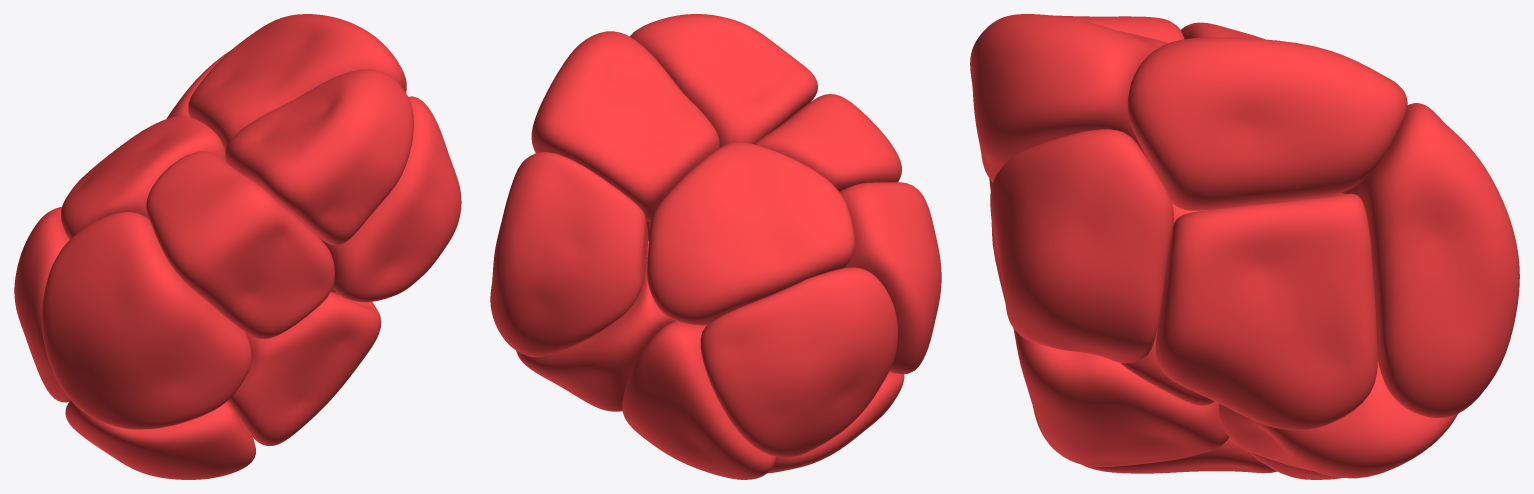
3 views of the same model, side by side, from view 1: azimuth 30°, elevation 25°; view 2: azimuth 150°, elevation 25°; view 3: azimuth 270°, elevation 25° (orthographic). The views are drawn at different scales.
Parts seen in each view (by area): view 1: a4.003, a4.004, a4.013, a4.007, a4.014, a4.011, a4.008, a4.001, a4.006, a4.002; view 2: a4.001, a4.006, a4.002, a4.007, a4.013, a4.010, a4.003, a4.004, a4.005, a4.008; view 3: a4.009, a4.007, a4.002, a4.014, a4.013, a4.011, a4.005, a4.008, a4.004, a4.012, a4.001, a4.010.
Boxes of the visible parts, <box> form: a4.003: <box>42,212,251,429</box>; a4.004: <box>146,151,334,339</box>; a4.013: <box>225,69,413,245</box>; a4.007: <box>188,14,406,150</box>; a4.014: <box>320,96,461,302</box>; a4.011: <box>228,292,381,445</box>; a4.008: <box>65,400,255,479</box>; a4.001: <box>61,116,226,239</box>; a4.006: <box>14,207,70,402</box>; a4.002: <box>166,50,230,118</box>; a4.001: <box>647,142,854,325</box>; a4.006: <box>700,267,897,457</box>; a4.002: <box>490,152,648,357</box>; a4.007: <box>531,31,719,221</box>; a4.013: <box>630,14,817,147</box>; a4.010: <box>622,321,775,479</box>; a4.003: <box>839,182,941,374</box>; a4.004: <box>754,94,901,191</box>; a4.005: <box>516,240,675,411</box>; a4.008: <box>767,371,904,473</box>; a4.009: <box>1155,193,1377,430</box>; a4.007: <box>1127,37,1407,210</box>; a4.002: <box>1341,103,1519,417</box>; a4.014: <box>990,129,1173,363</box>; a4.013: <box>970,14,1167,182</box>; a4.011: <box>1013,328,1228,466</box>; a4.005: <box>1218,361,1458,478</box>; a4.008: <box>1081,437,1276,473</box>; a4.004: <box>989,15,1184,190</box>; a4.012: <box>1120,203,1214,405</box>; a4.001: <box>1181,22,1265,39</box>; a4.010: <box>1248,451,1342,479</box>.
Size of the model in its own units: 440 by 424 by 385.
